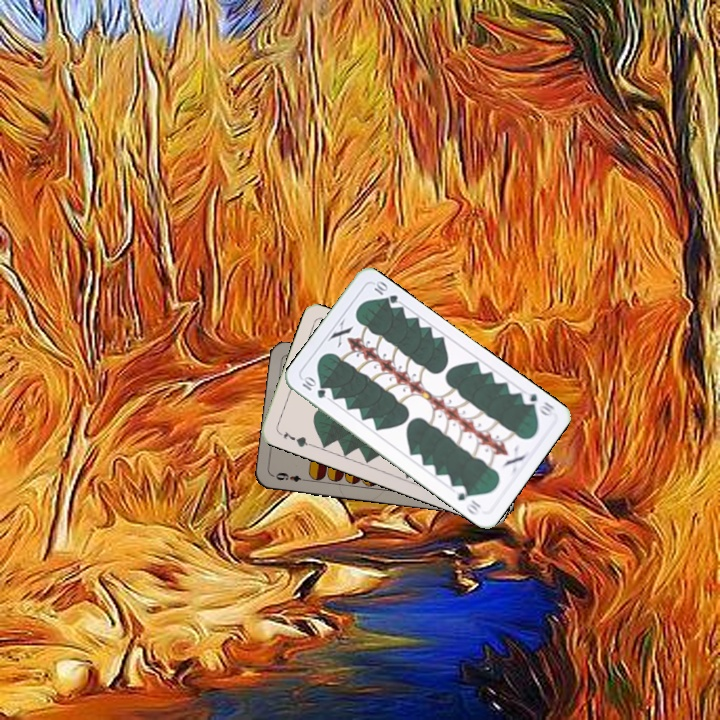E9: (270, 468, 310, 484)
G10: (518, 387, 558, 420), (297, 373, 329, 401)
G7: (279, 427, 314, 450)
